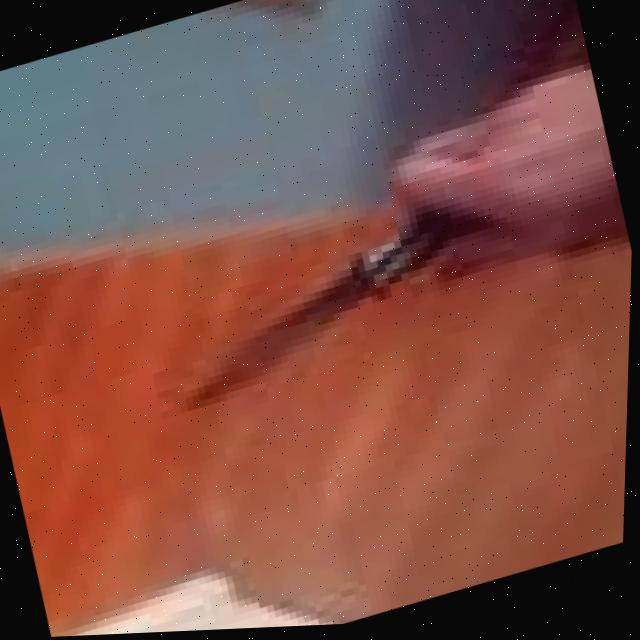knife: (151, 201, 516, 419)
